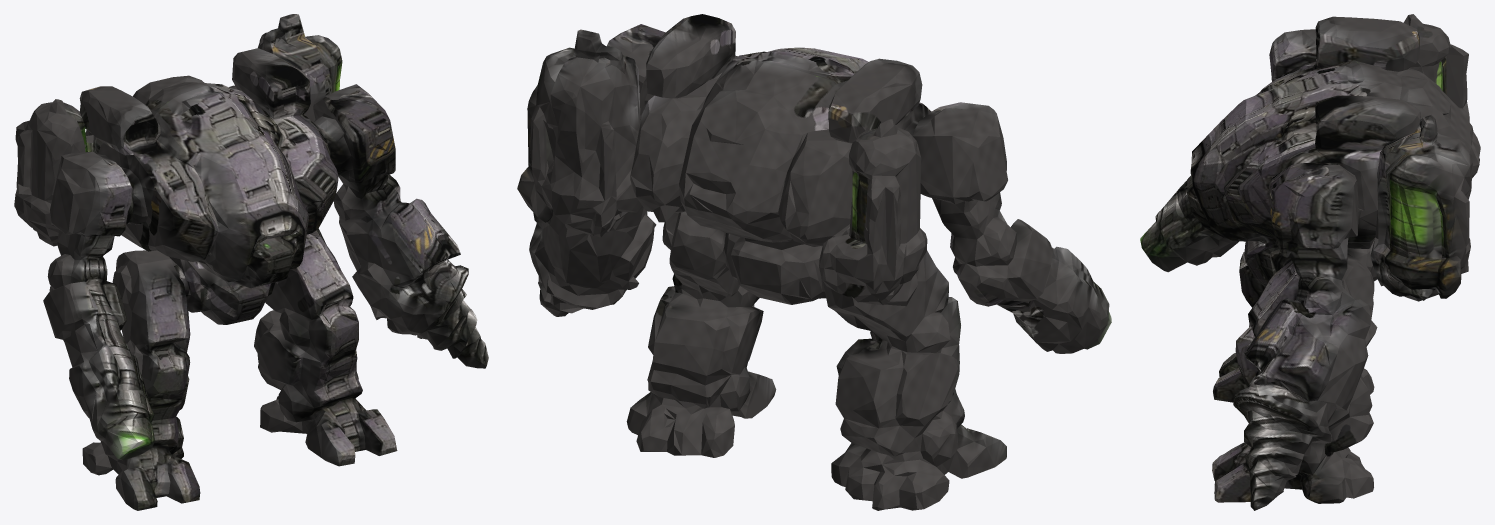
Rendered from commander_lod1.glb.
3 renders of one model, left to right at view 1: azimuth 30°, elevation 25°; view 2: azimuth 150°, elevation 25°; view 3: azimuth 270°, elevation 25°, orthographic. The views are drawn at different scales.
Parts seen in each view (by area): view 1: VexCommander; view 2: VexCommander; view 3: VexCommander.
Part boxes in pixels (bbox=[...]): VexCommander: bbox=[14, 14, 488, 510]; VexCommander: bbox=[517, 14, 1111, 510]; VexCommander: bbox=[1140, 14, 1480, 510].
Bounding box in the file's own units: 1.99 × 1.63 × 1.31.
Materials: 1 (1 with a texture image).
